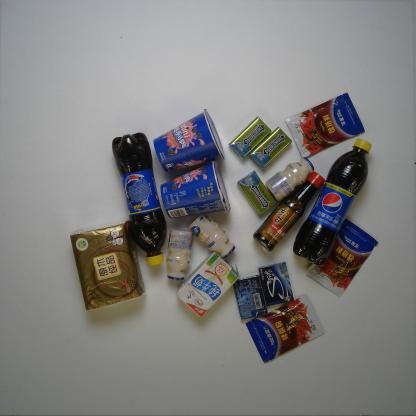Dessert: (152, 108, 229, 171), (160, 160, 234, 220)
Drink: (292, 138, 373, 264), (112, 132, 166, 266)
Gum: (228, 116, 272, 160), (236, 170, 276, 216), (250, 127, 292, 170), (233, 275, 269, 321), (258, 262, 294, 306)
Milk: (177, 252, 240, 317), (190, 214, 236, 258), (265, 158, 314, 199), (165, 229, 194, 280)
Seasoner: (252, 171, 327, 252), (307, 218, 379, 296), (247, 294, 327, 364), (284, 92, 366, 158)
Tissue: (69, 223, 146, 311)
